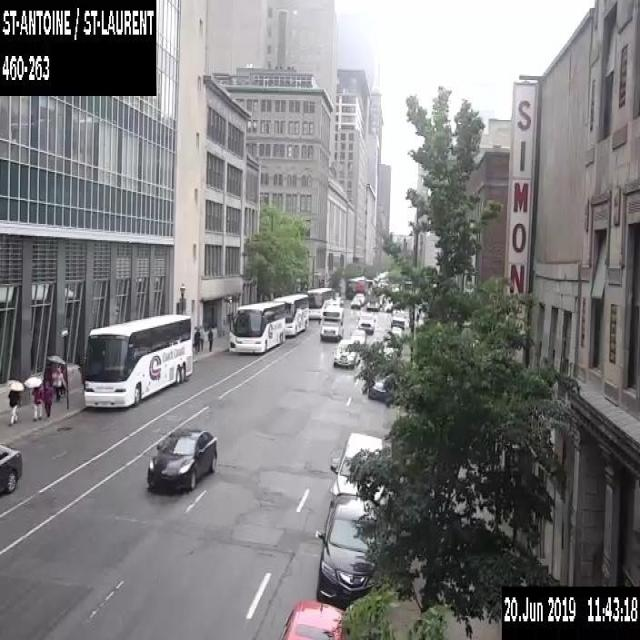bus: (81, 310, 194, 410), (228, 300, 285, 352), (273, 292, 308, 334), (306, 286, 334, 318)
pedestrian: (46, 354, 66, 401), (24, 376, 42, 423), (6, 378, 23, 426), (43, 379, 53, 417), (60, 362, 66, 394), (207, 326, 213, 351), (194, 328, 200, 351), (199, 328, 204, 350)
vehicle: (314, 490, 384, 608), (146, 426, 217, 493), (329, 431, 386, 505), (278, 598, 346, 638), (0, 442, 23, 498), (320, 306, 344, 340), (333, 338, 360, 367), (367, 379, 387, 399), (357, 312, 375, 332), (350, 329, 366, 344), (390, 315, 404, 329), (366, 296, 379, 310), (391, 324, 402, 337), (354, 292, 364, 304), (350, 298, 361, 308), (383, 302, 392, 312)
